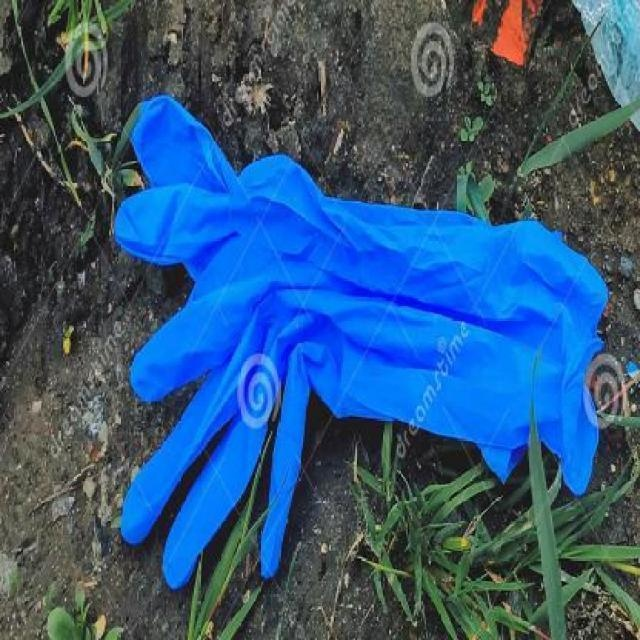Guantes: (110, 92, 610, 590)
